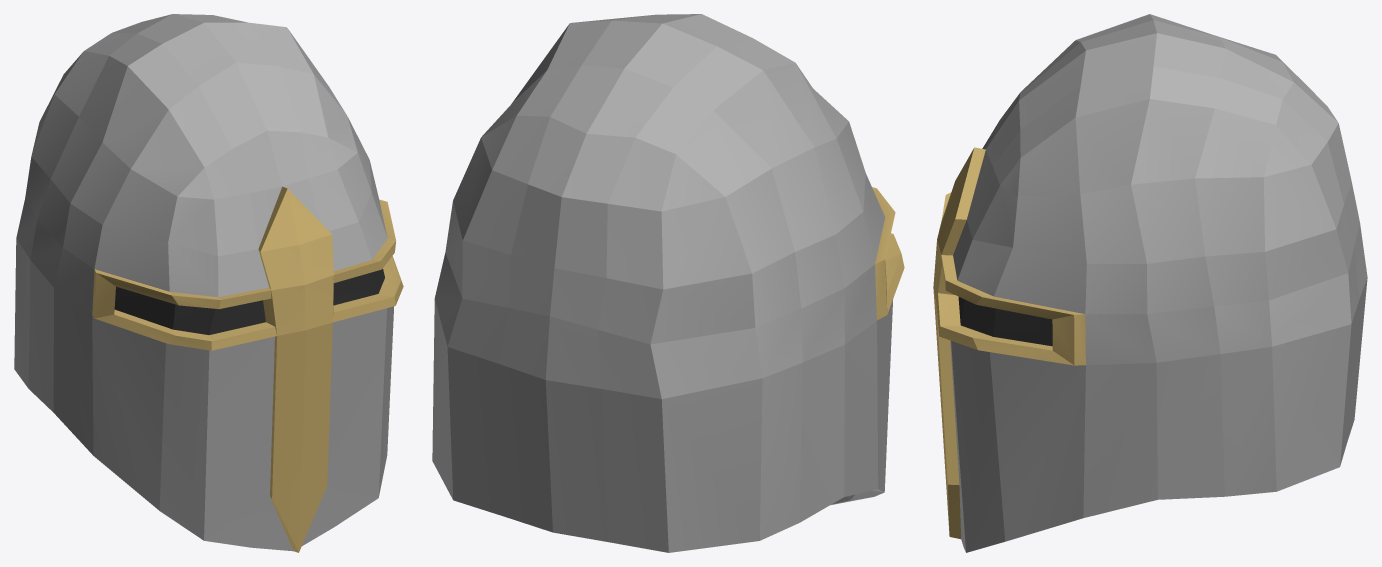
The model's file is Helmet3.glb.
3 views of the same model, side by side, from view 1: azimuth 30°, elevation 25°; view 2: azimuth 150°, elevation 25°; view 3: azimuth 270°, elevation 25° (orthographic). The views are drawn at different scales.
Parts seen in each view (by area): view 1: Helmet3; view 2: Helmet3; view 3: Helmet3.
Boxes of the visible parts, x1,y1,x2,y2 form: Helmet3: (14,14,403,552); Helmet3: (432,14,904,552); Helmet3: (933,14,1367,552).
Bounding box in the file's own units: 1.34 × 1.97 × 1.53.
